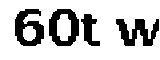0: (46, 5, 80, 50)
6: (9, 6, 45, 49)
t: (80, 10, 103, 51)
w: (113, 15, 160, 50)
